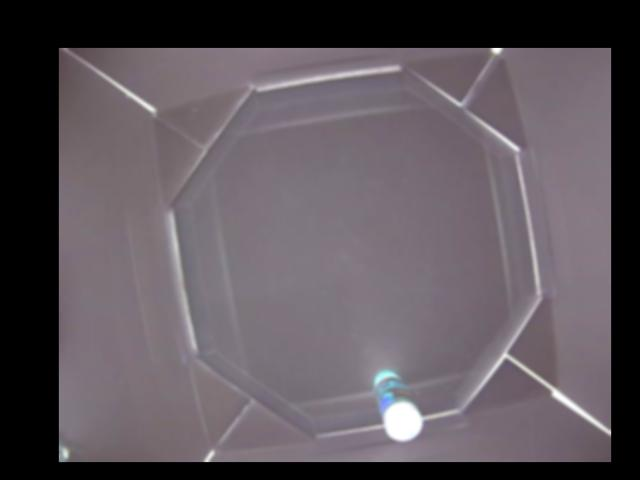Medicine: (373, 371, 423, 441)
